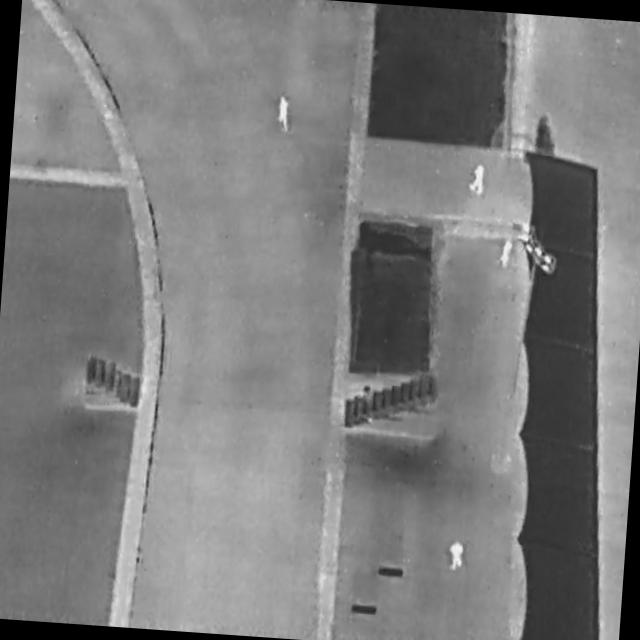person: (272, 91, 294, 135), (496, 235, 516, 271), (447, 538, 467, 572), (468, 162, 487, 196)
